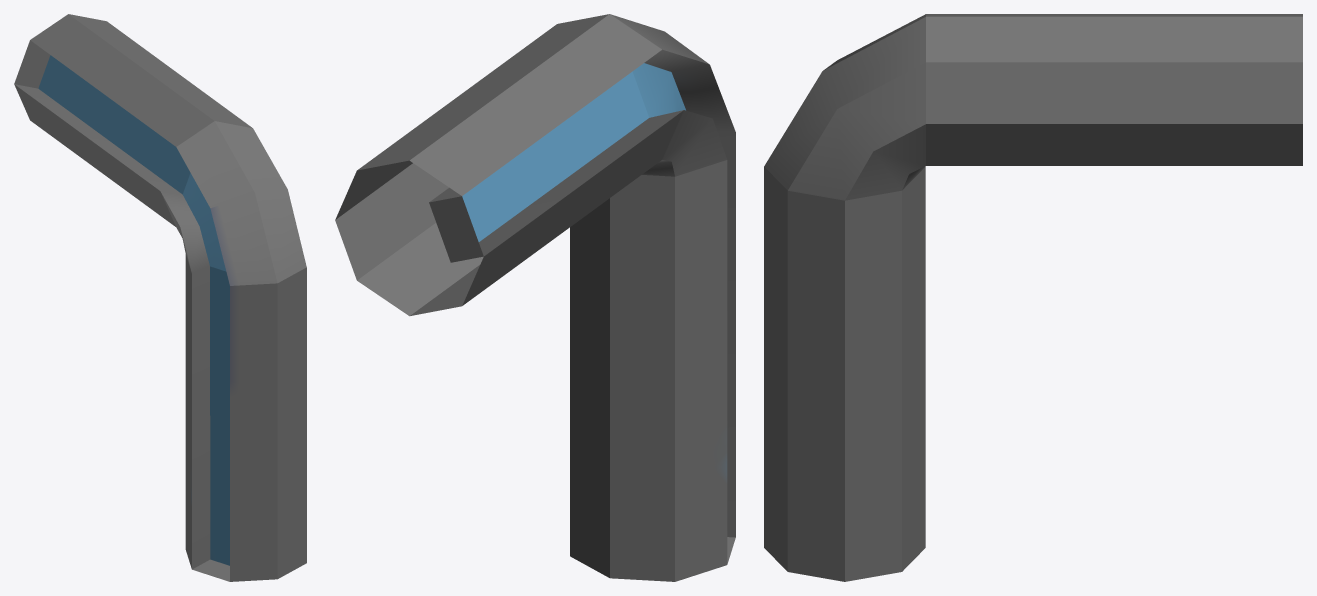
3 renders of one model, left to right at view 1: azimuth 30°, elevation 25°; view 2: azimuth 150°, elevation 25°; view 3: azimuth 270°, elevation 25°, orthographic. The views are drawn at different scales.
Parts seen in each view (by area): view 1: SM_B_Part15; view 2: SM_B_Part15; view 3: SM_B_Part15.
Part boxes in pixels (box(x1,y1,x2,y2)): SM_B_Part15: box(14, 14, 306, 581); SM_B_Part15: box(335, 14, 735, 581); SM_B_Part15: box(764, 14, 1302, 581).
Size of the model in its own units: 59.51 by 197 by 214.
1 material, 1 textured.
